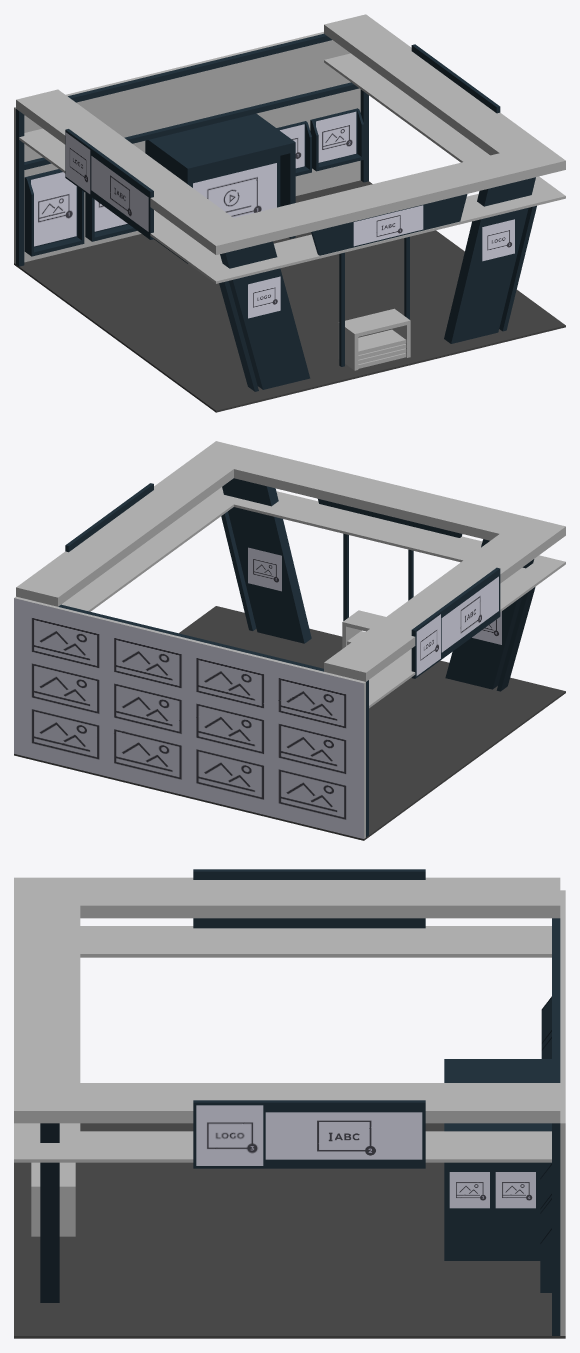
The model's file is stant55.gltf.
The picture shows the model from 3 angles, top to bottom: view 1: azimuth 30°, elevation 25°; view 2: azimuth 150°, elevation 25°; view 3: azimuth 270°, elevation 25°; orthographic projection. The views are drawn at different scales.
Parts seen in each view (by area): view 1: modrenk1, modzemin, modrenk2, modvideo1, moddikgorsel1, modyazi3, modyazi1, modgorsel2, modlogo4, modlogo2, modlogo1, moddikgorsel2 (+1 smaller); view 2: modgenisgorsel, modrenk1, modzemin, modrenk2, modyazi3, modgorsel5, modlogo4; view 3: modzemin, modrenk1, modrenk2, modyazi2, modlogo3, modgorsel3, modgorsel4.
Boxes of the visible parts, x1,y1,x2,y2 form: modrenk1: [14, 14, 565, 370]; modzemin: [14, 180, 565, 412]; modrenk2: [16, 33, 536, 391]; modvideo1: [193, 163, 276, 217]; moddikgorsel1: [31, 172, 76, 246]; modyazi3: [91, 156, 148, 231]; modyazi1: [353, 205, 423, 246]; modgorsel2: [316, 111, 356, 162]; modlogo4: [65, 132, 90, 193]; modlogo2: [482, 219, 514, 261]; modlogo1: [248, 276, 280, 318]; moddikgorsel2: [94, 199, 127, 231]; modgenisgorsel: [14, 598, 363, 838]; modrenk1: [14, 441, 565, 838]; modzemin: [14, 606, 565, 840]; modrenk2: [58, 478, 535, 837]; modyazi3: [441, 576, 498, 652]; modgorsel5: [248, 547, 281, 591]; modlogo4: [416, 614, 440, 675]; modzemin: [14, 1123, 565, 1338]; modrenk1: [14, 877, 565, 1335]; modrenk2: [40, 869, 560, 1335]; modyazi2: [265, 1112, 422, 1159]; modlogo3: [196, 1105, 263, 1165]; modgorsel3: [449, 1172, 489, 1208]; modgorsel4: [495, 1172, 535, 1208].
Size of what is drawn, in the model's own units: 1 by 0.4716 by 1.
22 materials, 19 textured.
